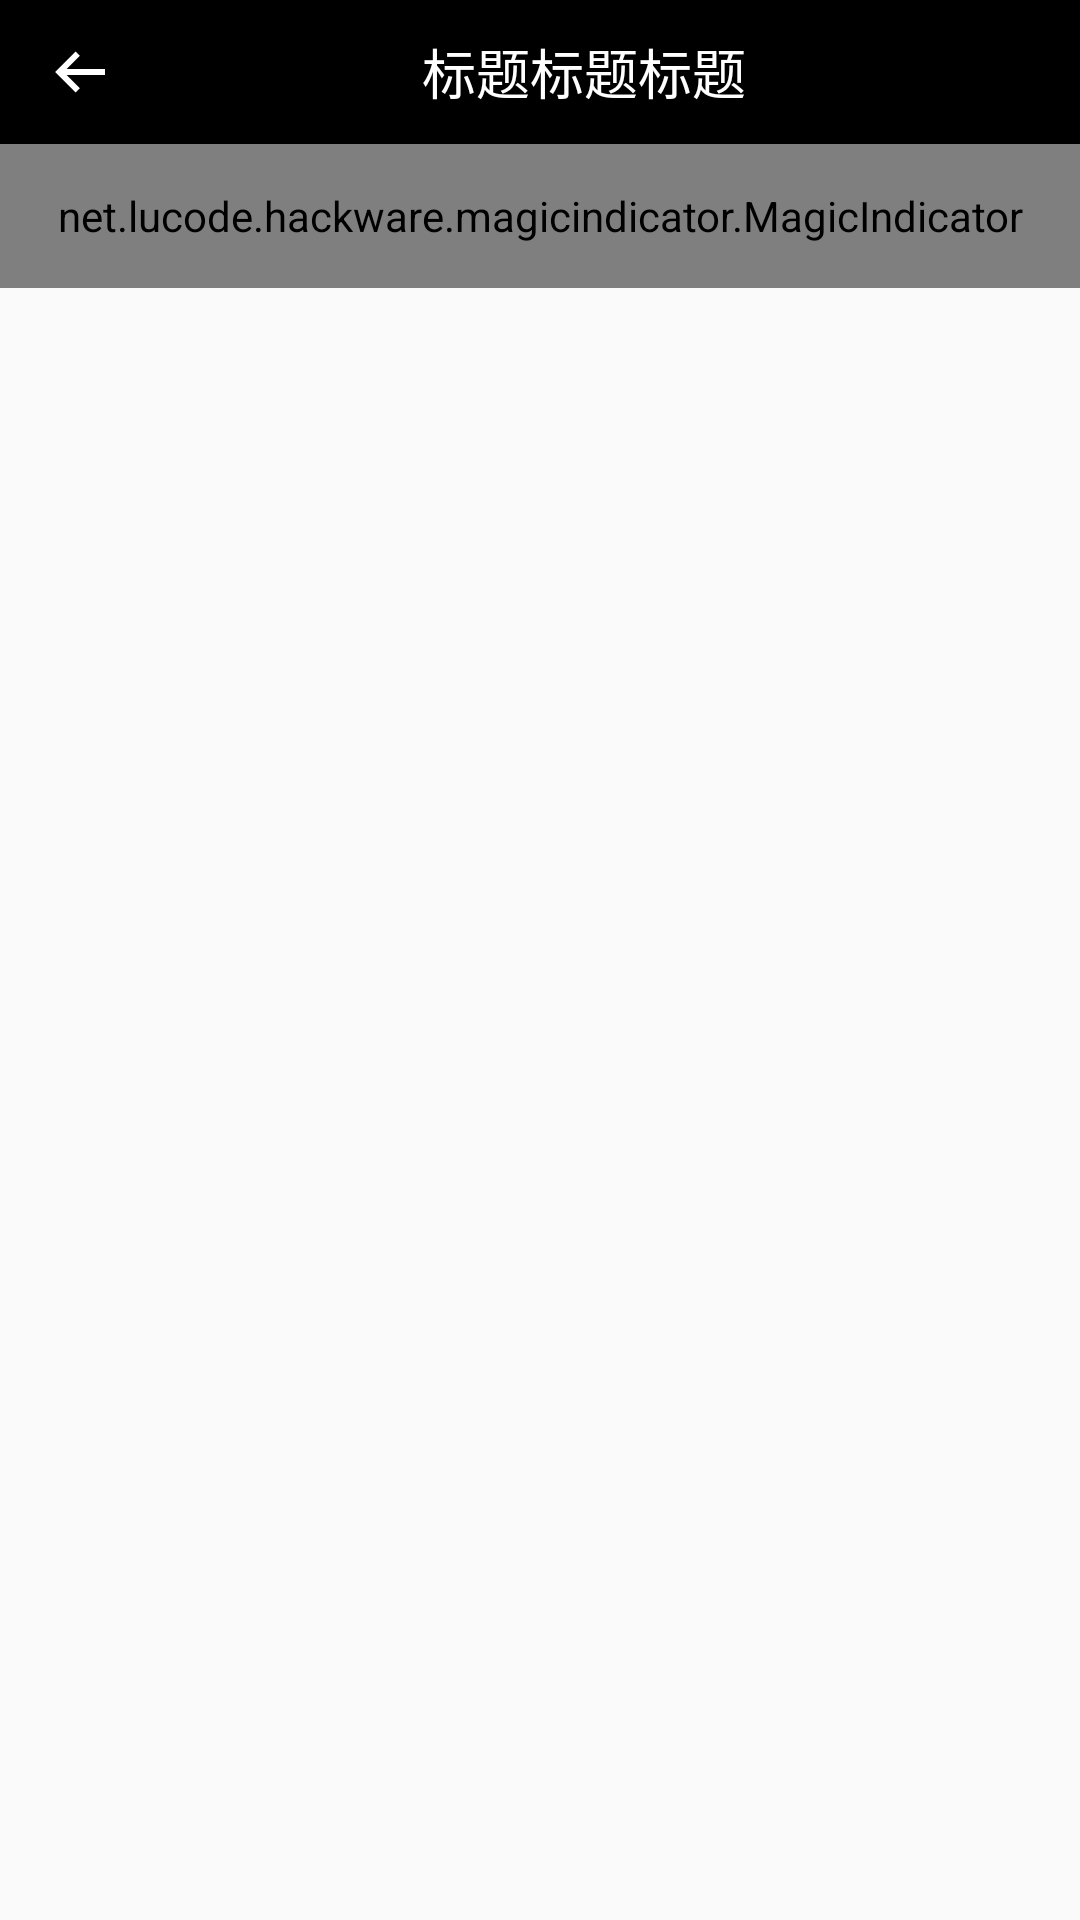

Screen size 1080w x 1920h. Icon name, then its box in pixels as [x1=x1, y1=y1, x2=x2, y2=y2]:
back: [x1=55, y1=51, x2=105, y2=93]
